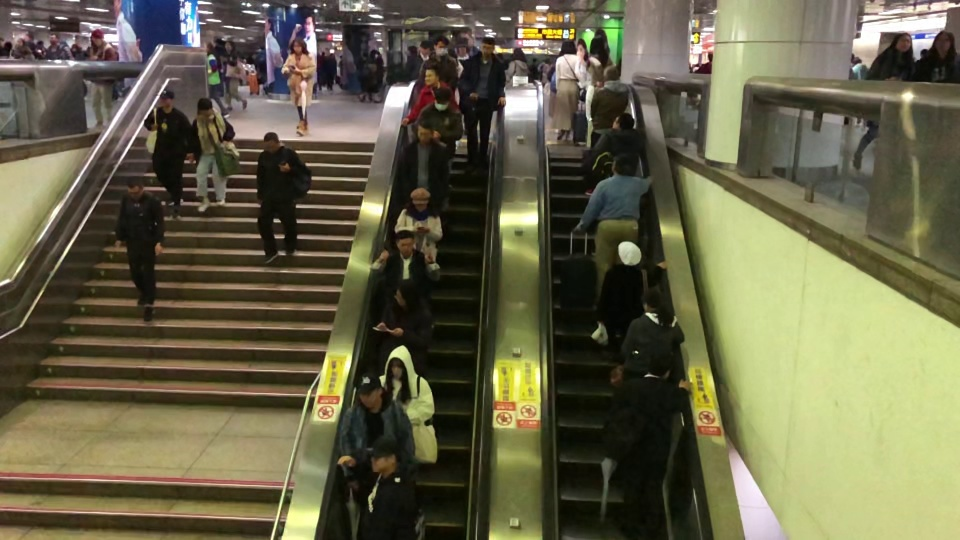person_head: (647, 350, 674, 375), (358, 383, 383, 407), (369, 447, 395, 470), (642, 286, 666, 310), (395, 230, 416, 257), (394, 281, 413, 307), (621, 244, 642, 265), (934, 30, 955, 51), (125, 176, 145, 198), (433, 87, 452, 110), (612, 154, 631, 175), (417, 118, 433, 141), (613, 112, 636, 128), (412, 189, 428, 210), (389, 354, 404, 376), (263, 132, 280, 151), (893, 32, 912, 49), (196, 96, 212, 115), (424, 66, 439, 86), (434, 36, 449, 55), (481, 36, 496, 55), (603, 63, 619, 80), (561, 39, 576, 55), (589, 36, 604, 52), (290, 38, 306, 52), (159, 91, 173, 107), (91, 30, 103, 45), (512, 47, 525, 60), (419, 41, 429, 56), (406, 45, 417, 57), (48, 32, 59, 43), (224, 40, 235, 51), (457, 44, 468, 55), (851, 56, 862, 65), (205, 42, 213, 51), (707, 52, 713, 63), (16, 37, 23, 45)
person_vbox: (604, 351, 692, 538), (575, 153, 654, 298), (336, 384, 415, 491), (595, 244, 667, 359), (853, 32, 912, 172), (336, 447, 419, 540), (113, 176, 164, 323), (460, 35, 506, 178), (143, 91, 193, 222), (583, 63, 630, 199), (620, 286, 686, 380), (415, 87, 463, 211), (255, 132, 299, 263), (188, 96, 236, 213), (369, 230, 440, 295), (401, 118, 449, 214), (376, 281, 433, 356), (393, 190, 442, 265), (385, 353, 436, 423), (401, 66, 459, 127), (280, 38, 316, 136), (591, 112, 639, 178), (86, 31, 119, 125), (585, 34, 610, 149), (554, 38, 577, 139), (914, 29, 956, 83), (419, 36, 459, 88), (205, 42, 231, 118), (220, 40, 247, 113), (851, 55, 867, 129), (46, 32, 76, 61), (506, 46, 527, 81), (11, 37, 36, 59), (694, 51, 713, 73)
